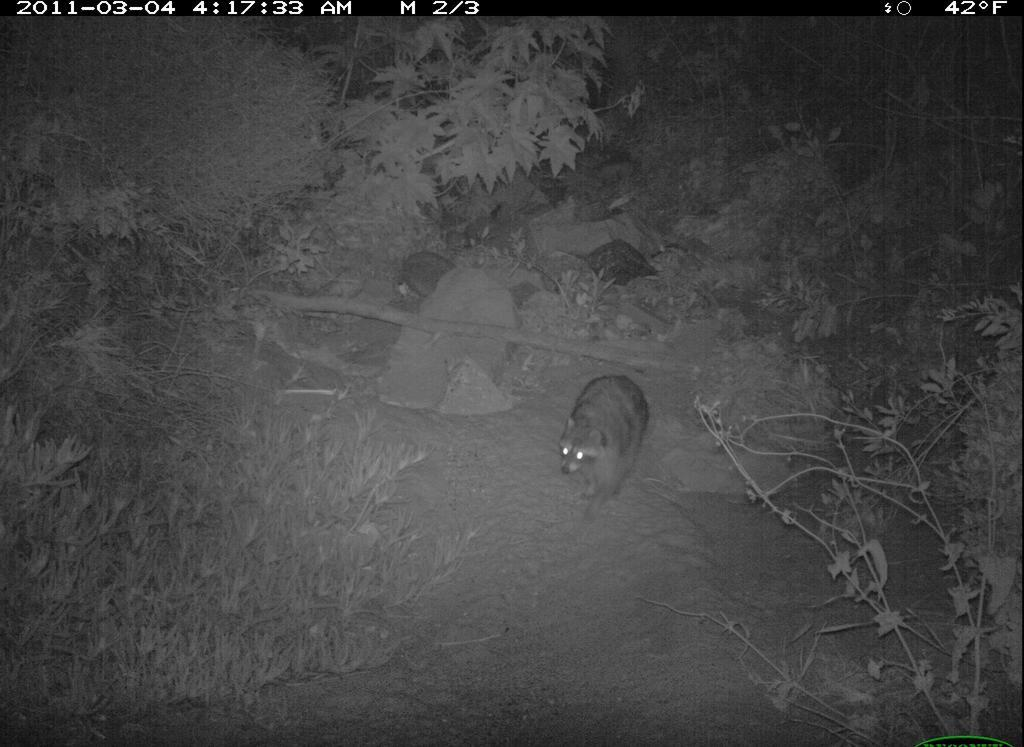raccoon: (550, 364, 653, 528)
